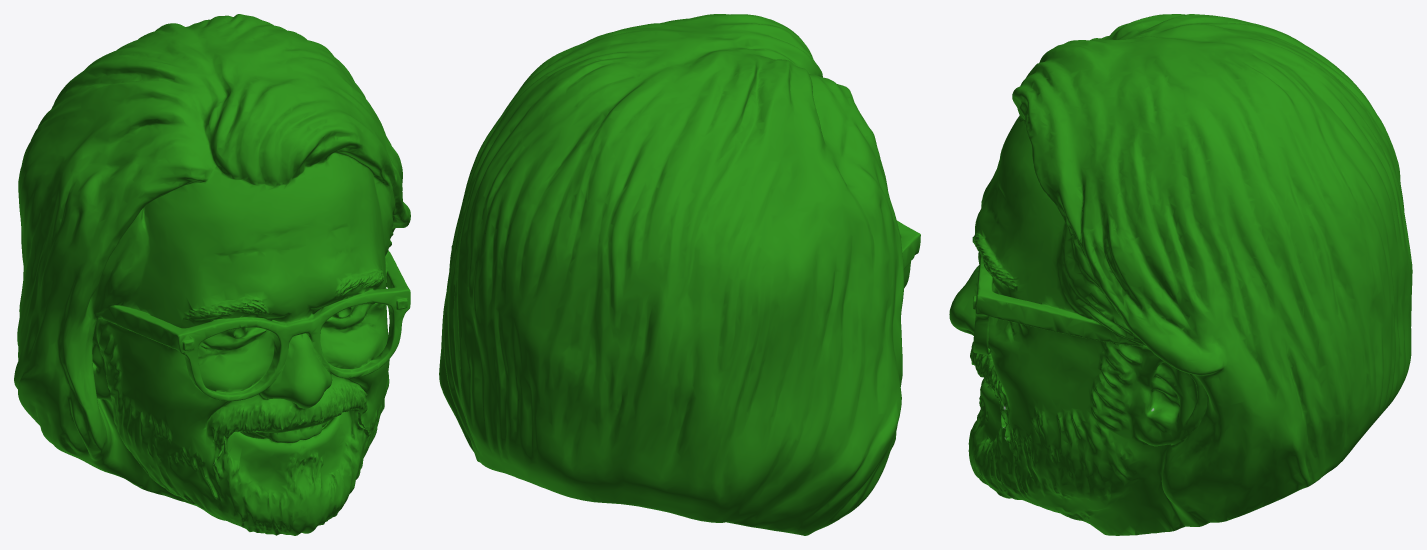
Rendered from Dean_s.glb.
3 views of the same model, side by side, from view 1: azimuth 30°, elevation 25°; view 2: azimuth 150°, elevation 25°; view 3: azimuth 270°, elevation 25° (orthographic). The views are drawn at different scales.
Size of the model in its own units: 1.57 by 1.75 by 1.53.
